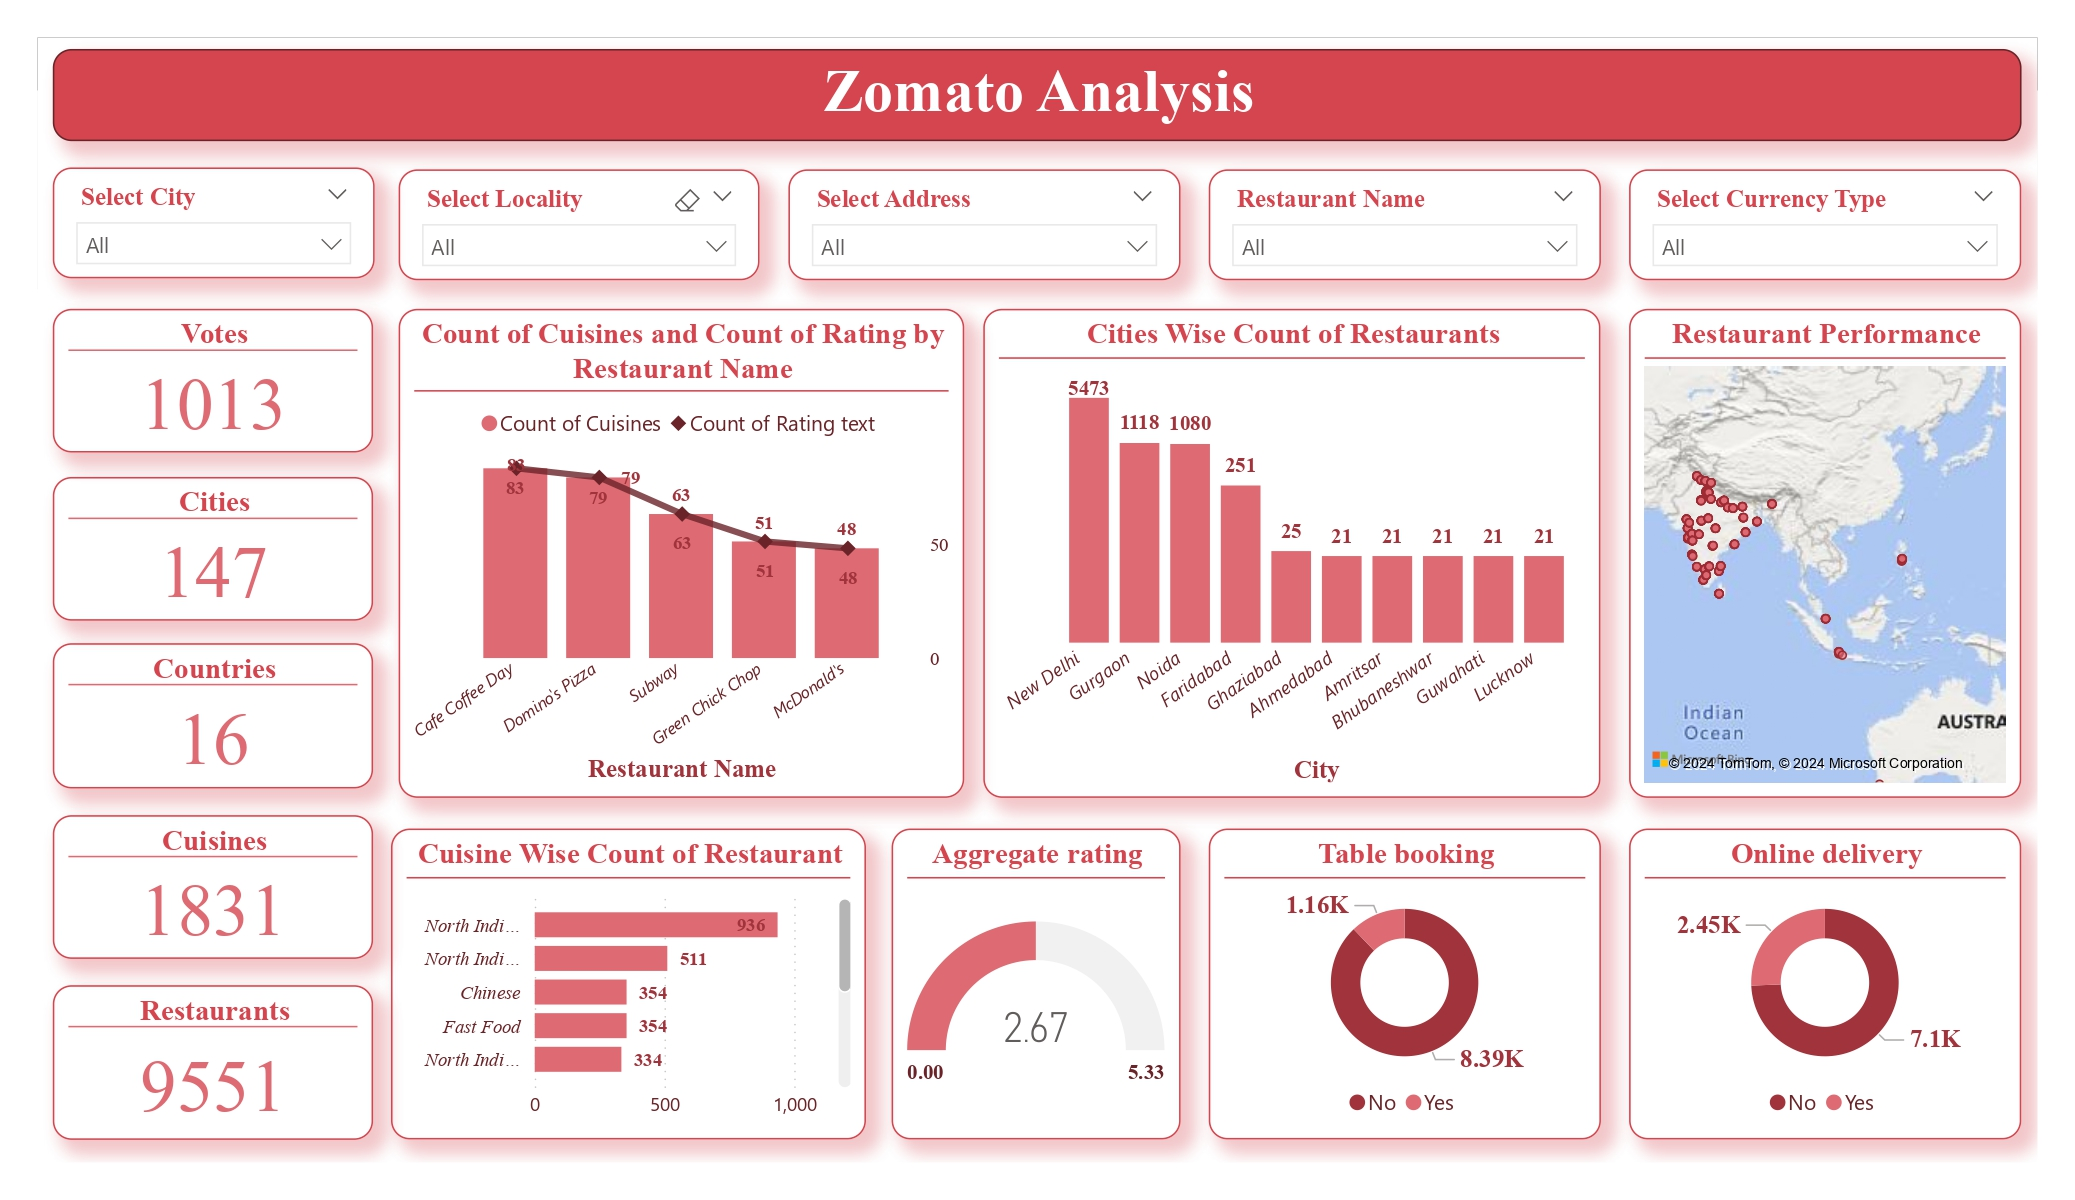

The dashboard page shown, as its layout file describes it:
{"tool":"powerbi","page":{"name":"Page 1","canvas":[1280,720],"ordinal":0},"visuals":[{"type":"textbox","title":"Zomato Analysis","box":[9.6,6.9,1259.7,59],"z":0},{"type":"slicer","fields":{"Values":["zomato.City"]},"box":[9.6,83.7,205.8,71.4],"z":1000},{"type":"card","title":"Votes","fields":{"Values":["Count(zomato.Votes)"]},"box":[9.8,173.6,205.4,91.7],"z":2000},{"type":"card","title":"Cities","fields":{"Values":["Count(zomato.City)"]},"box":[9.8,281.3,205.4,91.7],"z":3000},{"type":"card","title":"Countries","fields":{"Values":["Count(zomato.Country Code)"]},"box":[9.8,387.6,205.4,92.9],"z":4000},{"type":"card","title":"Cuisines","fields":{"Values":["Count(zomato.Cuisines)"]},"box":[9.8,497.7,205.4,91.7],"z":5000},{"type":"donutChart","title":"Online delivery","fields":{"Category":["zomato.Has Online delivery"],"Y":["CountNonNull(zomato.Has Online delivery)"]},"box":[1018.6,506.3,250.7,199.3],"z":6000},{"type":"card","title":"Restaurants","fields":{"Values":["CountNonNull(zomato.Restaurant ID)"]},"box":[9.8,606.5,205.4,99],"z":7000},{"type":"donutChart","title":"Table booking","fields":{"Category":["zomato.Has Table booking"],"Y":["CountNonNull(zomato.Has Table booking)"]},"box":[749.6,506.3,250.7,199.3],"z":8000},{"type":"columnChart","title":"Cities Wise Count of Restaurants","fields":{"Category":["zomato.City"],"Y":["CountNonNull(zomato.Restaurant ID)"]},"box":[605.3,173.6,395,313],"z":9000},{"type":"lineStackedColumnComboChart","title":"Count of Cuisines and Count of Rating by Restaurant Name","fields":{"Category":["zomato.Restaurant Name"],"Y":["CountNonNull(zomato.Cuisines)"],"Y2":["CountNonNull(zomato.Rating text)"]},"box":[231.1,173.6,362,313],"z":10000},{"type":"clusteredBarChart","title":"Cuisine Wise Count of Restaurant","fields":{"Category":["zomato.Cuisines"],"Y":["CountNonNull(zomato.Cuisines)"]},"box":[226.2,506.3,304.5,199.3],"z":11000},{"type":"slicer","fields":{"Values":["zomato.Address"]},"box":[480.4,84.1,250.9,71.3],"z":12000},{"type":"slicer","fields":{"Values":["zomato.Currency"]},"box":[1019.2,84.1,250.9,71.3],"z":13000},{"type":"slicer","fields":{"Values":["zomato.Locality"]},"box":[230.9,84.1,230.9,71.3],"z":14000},{"type":"slicer","fields":{"Values":["zomato.Restaurant Name"]},"box":[749.8,84.1,250.9,71.3],"z":15000},{"type":"gauge","title":"Aggregate rating","fields":{"Y":["Avg(zomato.Aggregate rating)"]},"box":[546.6,506.3,184.6,199.3],"z":16000},{"type":"map","title":"Restaurant Performance","fields":{"X":["zomato.Longitude"],"Y":["zomato.Latitude"]},"box":[1018.6,173.6,250.7,313],"z":17000}]}

Visuals, with their boxes in screenshot pixels (x1, y1, x2, y2):
"Zomato Analysis" textbox: [x1=52, y1=48, x2=2021, y2=140]
slicer - zomato.City: [x1=52, y1=168, x2=374, y2=280]
"Votes" card: [x1=53, y1=309, x2=374, y2=452]
"Cities" card: [x1=53, y1=477, x2=374, y2=620]
"Countries" card: [x1=53, y1=643, x2=374, y2=788]
"Cuisines" card: [x1=53, y1=815, x2=374, y2=958]
"Online delivery" donutChart: [x1=1629, y1=829, x2=2021, y2=1140]
"Restaurants" card: [x1=53, y1=985, x2=374, y2=1140]
"Table booking" donutChart: [x1=1209, y1=829, x2=1600, y2=1140]
"Cities Wise Count of Restaurants" columnChart: [x1=983, y1=309, x2=1600, y2=798]
"Count of Cuisines and Count of Rating by Restaurant Name" lineStackedColumnComboChart: [x1=399, y1=309, x2=964, y2=798]
"Cuisine Wise Count of Restaurant" clusteredBarChart: [x1=391, y1=829, x2=867, y2=1140]
slicer - zomato.Address: [x1=788, y1=169, x2=1180, y2=280]
slicer - zomato.Currency: [x1=1630, y1=169, x2=2022, y2=280]
slicer - zomato.Locality: [x1=398, y1=169, x2=759, y2=280]
slicer - zomato.Restaurant Name: [x1=1209, y1=169, x2=1601, y2=280]
"Aggregate rating" gauge: [x1=892, y1=829, x2=1180, y2=1140]
"Restaurant Performance" map: [x1=1629, y1=309, x2=2021, y2=798]
